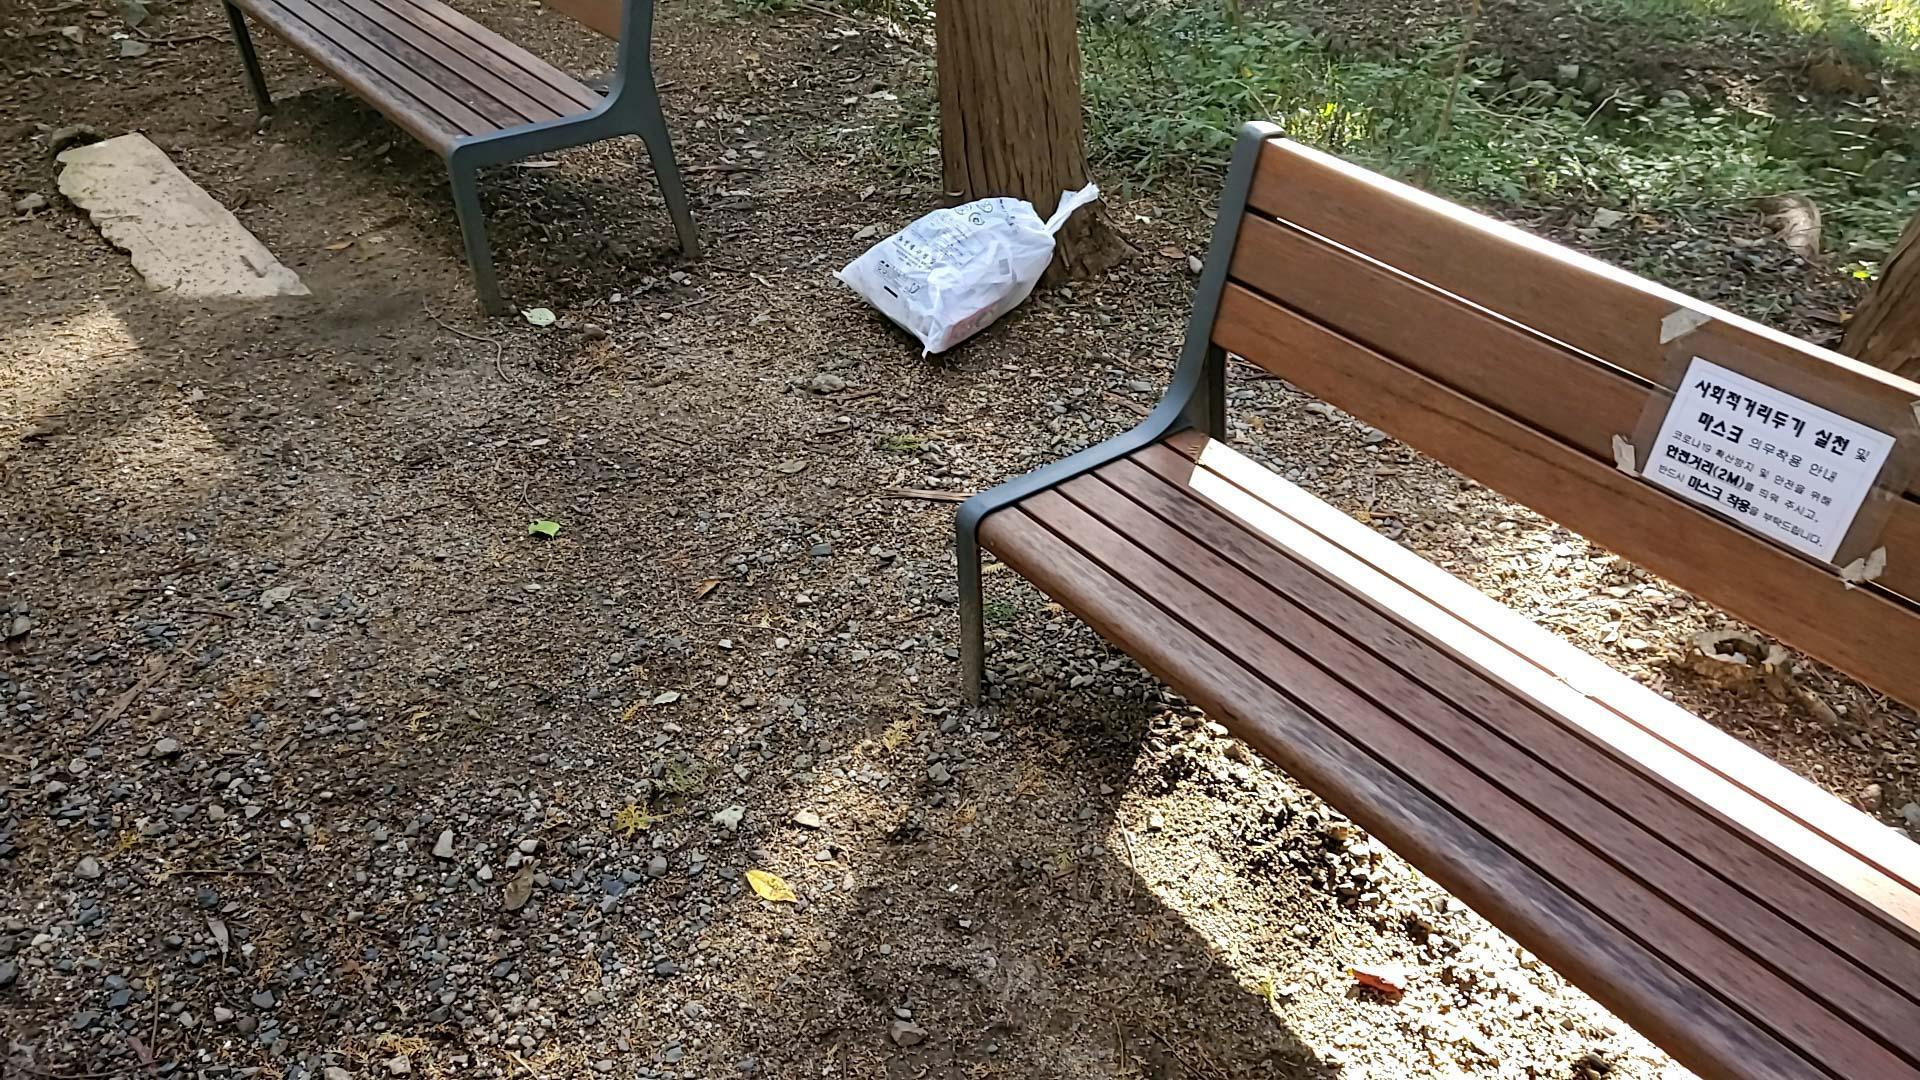white_bag: (811, 162, 1112, 365)
